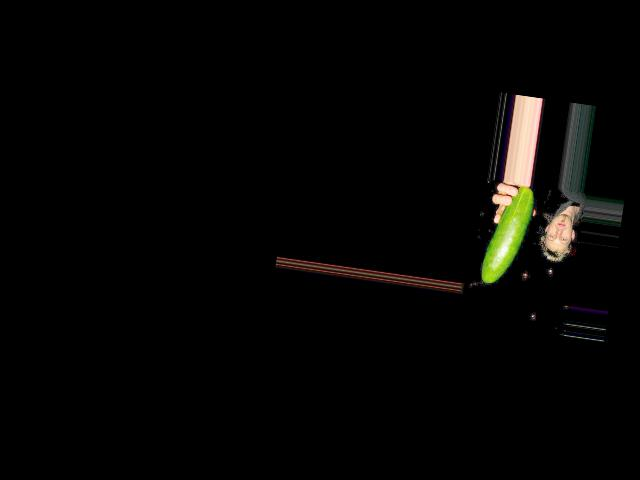cucumber: (479, 183, 534, 287)
